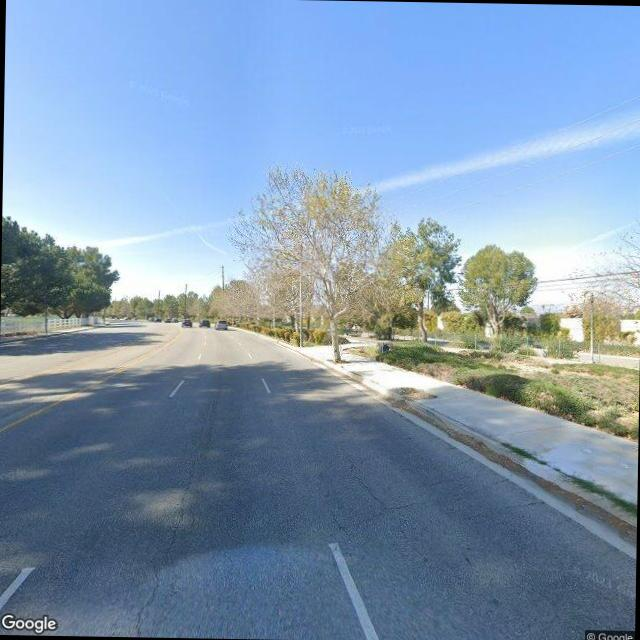pothole: (128, 467, 195, 637), (342, 452, 388, 512)
